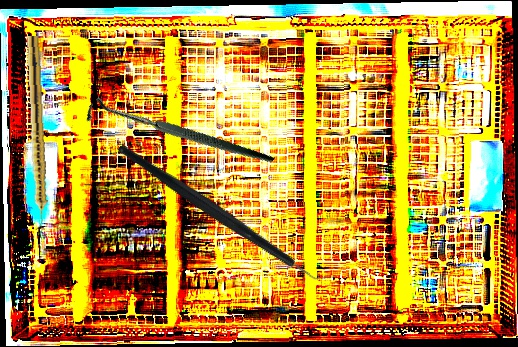Chopper: (115, 87, 339, 340)
Handpiece: (22, 35, 50, 231)
Hook Surgical: (80, 39, 276, 234)
